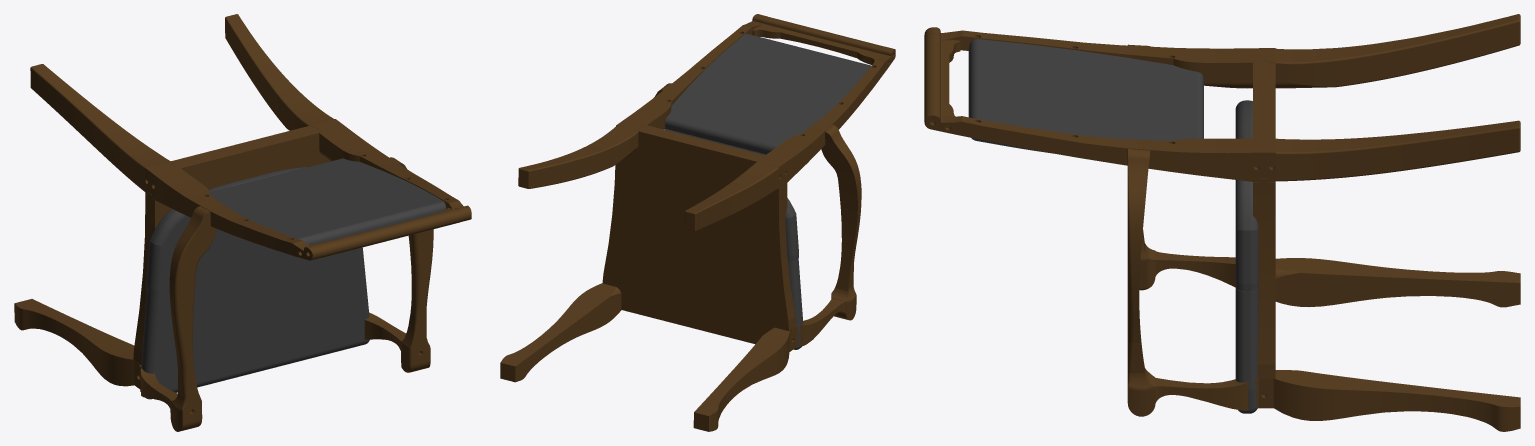
File: Windsor Arm Chair.obj
3 renders of one model, left to right at view 1: azimuth 30°, elevation 25°; view 2: azimuth 150°, elevation 25°; view 3: azimuth 270°, elevation 25°, orthographic. The views are drawn at different scales.
Parts seen in each view (by area): view 1: Body1:2, Body1:3, Body1:8, Body1:9, Body1:4, Body1:5, Body1:1, Body1:7, Body1, Body1:6; view 2: Body1:4, Body1:3, Body1:8, Body1:9, Body1:1, Body1:6, Body1:5, Body1, Body1:2; view 3: Body1:3, Body1:9, Body1:8, Body1:6, Body1:1, Body1:2, Body1:4, Body1:7, Body1, Body1:5.
Boxes of the visible parts, left/top/right/bottom form: Body1:2: left=141, top=167, right=369, bottom=399; Body1:3: left=209, top=158, right=446, bottom=257; Body1:8: left=30, top=64, right=323, bottom=260; Body1:9: left=225, top=14, right=471, bottom=221; Body1:4: left=133, top=126, right=329, bottom=366; Body1:5: left=169, top=206, right=216, bottom=431; Body1:1: left=14, top=299, right=177, bottom=408; Body1:7: left=390, top=157, right=433, bottom=372; Body1: left=309, top=208, right=461, bottom=257; Body1:6: left=364, top=312, right=406, bottom=350; Body1:4: left=602, top=125, right=796, bottom=344; Body1:3: left=664, top=33, right=871, bottom=155; Body1:8: left=684, top=46, right=895, bottom=231; Body1:9: left=518, top=14, right=767, bottom=188; Body1:1: left=693, top=298, right=846, bottom=431; Body1:6: left=500, top=283, right=621, bottom=382; Body1:5: left=821, top=124, right=861, bottom=320; Body1: left=752, top=16, right=884, bottom=64; Body1:2: left=785, top=198, right=803, bottom=349; Body1:3: left=968, top=39, right=1203, bottom=153; Body1:9: left=924, top=109, right=1520, bottom=181; Body1:8: left=924, top=14, right=1520, bottom=88; Body1:6: left=1155, top=370, right=1520, bottom=431; Body1:1: left=1155, top=251, right=1520, bottom=307; Body1:2: left=1235, top=100, right=1258, bottom=413; Body1:4: left=1253, top=61, right=1275, bottom=382; Body1:7: left=1127, top=148, right=1155, bottom=416; Body1: left=924, top=33, right=960, bottom=116; Body1:5: left=1127, top=44, right=1155, bottom=290.
Size of the model in its own units: 56.14 by 52.91 by 96.79.
